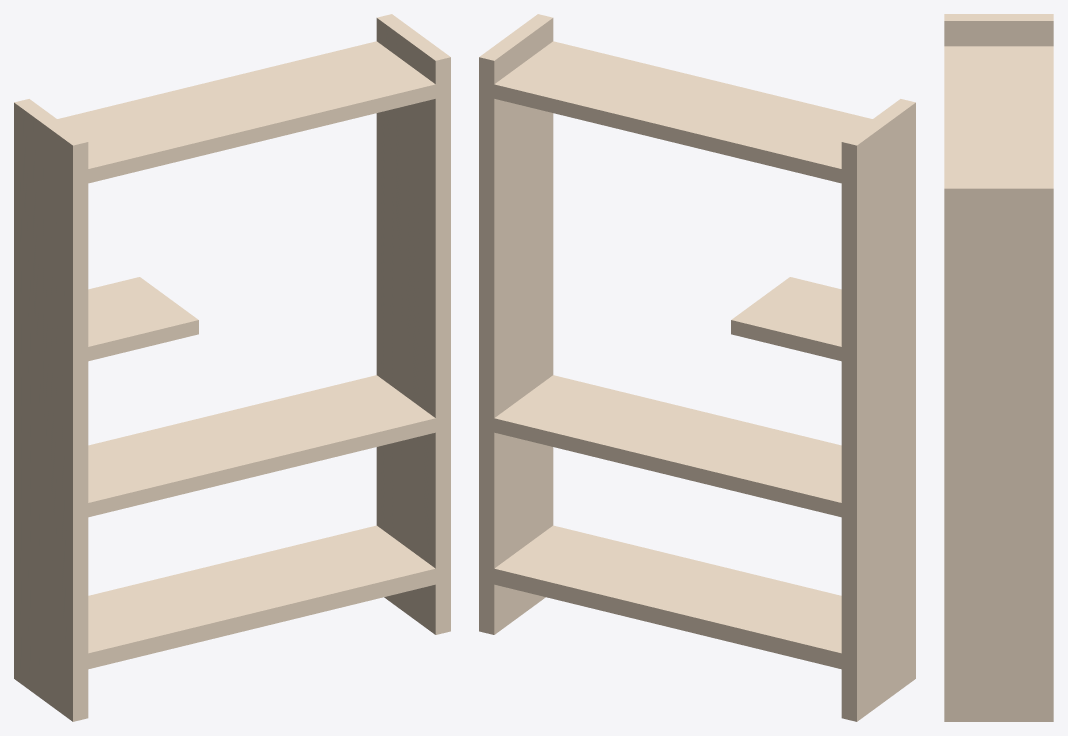
3 renders of one model, left to right at view 1: azimuth 30°, elevation 25°; view 2: azimuth 150°, elevation 25°; view 3: azimuth 270°, elevation 25°, orthographic. The views are drawn at different scales.
Visible parts, largest first — view 1: Wall__5_, Wall__4_, Wall_8__6_, Wall_8__2_, Wall_8__25_, Wall_8__26_; view 2: Wall__5_, Wall__4_, Wall_8__6_, Wall_8__2_, Wall_8__25_, Wall_8__26_; view 3: Wall__4_, Wall_8__6_, Wall__5_.
Part boxes in pixels (x1,y1,x2,y2): Wall__5_: (14, 99, 88, 721); Wall__4_: (376, 14, 450, 634); Wall_8__6_: (57, 41, 448, 186); Wall_8__2_: (80, 525, 446, 670); Wall_8__25_: (77, 375, 442, 519); Wall_8__26_: (80, 277, 198, 362); Wall__5_: (841, 99, 915, 721); Wall__4_: (479, 14, 553, 634); Wall_8__6_: (481, 41, 872, 186); Wall_8__2_: (483, 525, 849, 670); Wall_8__25_: (487, 375, 852, 519); Wall_8__26_: (731, 277, 849, 362); Wall__4_: (944, 181, 1053, 721); Wall_8__6_: (944, 46, 1053, 181); Wall__5_: (944, 14, 1053, 46).
Size of the model in its own units: 397 by 580 by 107.
